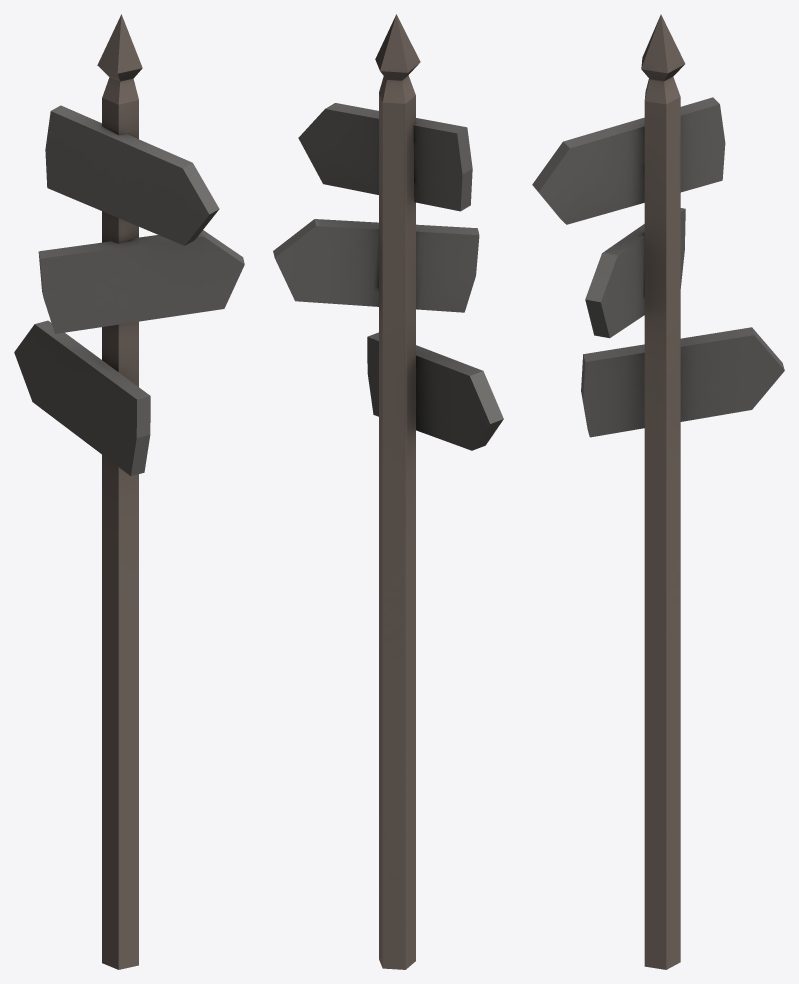
Rendered from Signpost.fbx.
3 renders of one model, left to right at view 1: azimuth 30°, elevation 25°; view 2: azimuth 210°, elevation 25°; view 3: azimuth 270°, elevation 25°, orthographic.
Parts seen in each view (by area): view 1: pCylinder3; view 2: pCylinder3; view 3: pCylinder3.
Part boxes in pixels (x1,y1,x2,y2): pCylinder3: (14, 14, 244, 969); pCylinder3: (273, 14, 503, 969); pCylinder3: (532, 14, 784, 969).
Size of the model in its own units: 0.4095 by 2.2 by 0.5325.
1 material, 1 textured.
